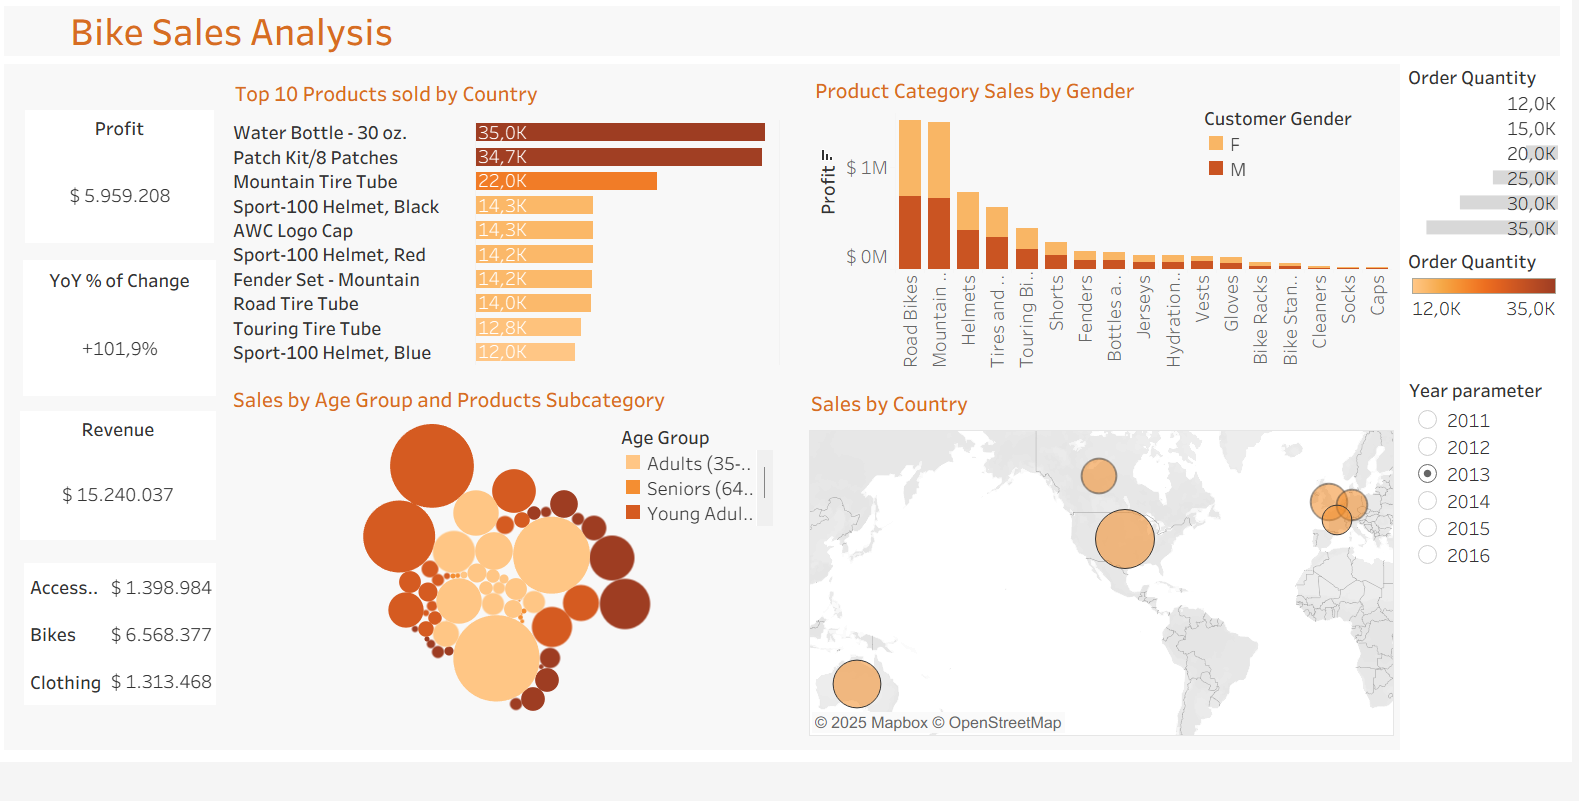

This screenshot's page, from the dashboard's own definition file:
{"tool":"tableau","page":{"name":"Sales Dashboard","canvas":[1580,768],"ordinal":0},"visuals":[{"type":"title","box":[8,8,1564,58]},{"type":"blank","box":[8,66,1404,694]},{"type":"legend","title":"Top 10 products","param":"[federated.002ajsm04puw9p1fabyku0tneb31].[sum:Order_Quantity:qk]","box":[1412,66,160,184]},{"type":"text","box":[819,80,372,33]},{"type":"text","box":[239,83,372,33]},{"type":"legend","title":"Sub Category Bar Chart","param":"[federated.002ajsm04puw9p1fabyku0tneb31].[none:Customer_Gender:nk]","box":[1212,111,177,76]},{"type":"worksheet","title":"Profit Card","mark":"Automatic","cols":["Calculation_2105432865137332226"],"box":[29,112,197,141]},{"type":"worksheet","title":"Sub Category Bar Chart","mark":"Automatic","rows":["Profit"],"cols":["Sub_Category"],"box":[816,119,584,256]},{"type":"worksheet","title":"Top 10 products","mark":"Bar","rows":["Product"],"box":[235,126,553,245]},{"type":"legend","title":"Top 10 products","param":"[federated.002ajsm04puw9p1fabyku0tneb31].[sum:Order_Quantity:qk]","box":[1412,250,160,81]},{"type":"worksheet","title":"YoY % of Change","mark":"Automatic","cols":["Calculation_2105432865140375560"],"box":[31,266,193,136]},{"type":"parameter","param":"[Parameters].[Parámetro 1]","box":[1417,383,160,194]},{"type":"text","box":[237,389,449,33]},{"type":"text","box":[815,393,449,33]},{"type":"worksheet","title":"Revenue Card","mark":"Automatic","cols":["Calculation_2105432865142341641"],"box":[28,417,196,129]},{"type":"worksheet","title":"Age Group Bubble Chart","mark":"Circle","box":[238,430,553,287]},{"type":"legend","title":"Age Group Bubble Chart","param":"[federated.002ajsm04puw9p1fabyku0tneb31].[none:Age_Group:nk]","box":[629,430,154,102]},{"type":"worksheet","title":"Map","mark":"Automatic","box":[817,436,585,306]},{"type":"worksheet","title":"Cost Cards","mark":"Automatic","rows":["Product_Category"],"box":[32,569,192,142]}]}

Visuals, with their boxes on the page's 1580x768 design canvas (x1, y1, x2, y2). These are canvas units, not pixel positions in the 1579x801 screenshot, which may show the page scaled, cropped or inside an application window:
title: box(8, 8, 1572, 66)
blank: box(8, 66, 1412, 760)
"Top 10 products" legend: box(1412, 66, 1572, 250)
text: box(819, 80, 1191, 113)
text: box(239, 83, 611, 116)
"Sub Category Bar Chart" legend: box(1212, 111, 1389, 187)
"Profit Card" worksheet: box(29, 112, 226, 253)
"Sub Category Bar Chart" worksheet: box(816, 119, 1400, 375)
"Top 10 products" worksheet (Bar marks): box(235, 126, 788, 371)
"Top 10 products" legend: box(1412, 250, 1572, 331)
"YoY % of Change" worksheet: box(31, 266, 224, 402)
parameter: box(1417, 383, 1577, 577)
text: box(237, 389, 686, 422)
text: box(815, 393, 1264, 426)
"Revenue Card" worksheet: box(28, 417, 224, 546)
"Age Group Bubble Chart" worksheet (Circle marks): box(238, 430, 791, 717)
"Age Group Bubble Chart" legend: box(629, 430, 783, 532)
"Map" worksheet: box(817, 436, 1402, 742)
"Cost Cards" worksheet: box(32, 569, 224, 711)
